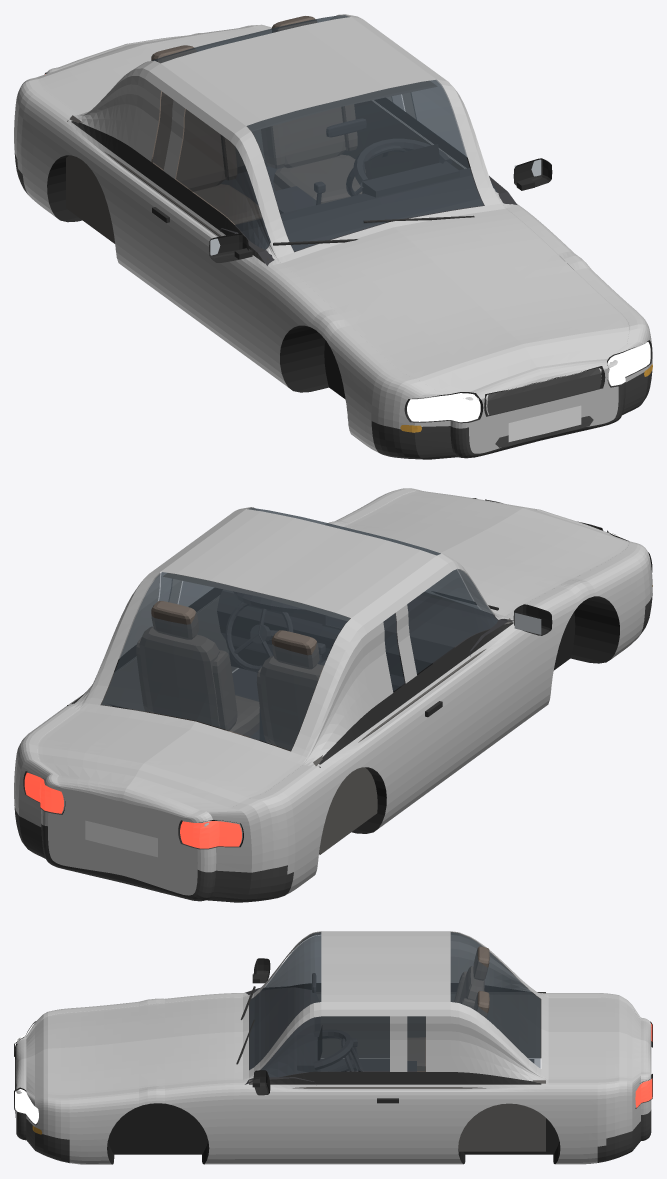
Rendered from car_samurai.fbx.
3 renders of one model, top to bottom at view 1: azimuth 30°, elevation 25°; view 2: azimuth 150°, elevation 25°; view 3: azimuth 270°, elevation 25°, orthographic. The views are drawn at different scales.
Visible parts, largest first — view 1: samurai__hood, samurai__glass, samurai__roof, samurai__seats, samurai__interior, samurai__doorR, samurai__pillars, samurai__fenderFR, samurai__quarterR, samurai__trunk, samurai__cabin, samurai__bumperF (+10 smaller); view 2: samurai__glass, samurai__trunk, samurai__hood, samurai__roof, samurai__seats, samurai__pillars, samurai__quarterR, samurai__doorR, samurai__interior, samurai__rearPanel, samurai__fenderFR, samurai__cabin (+7 smaller); view 3: samurai__hood, samurai__glass, samurai__doorL, samurai__quarterL, samurai__pillars, samurai__roof, samurai__trunk, samurai__fenderFL, samurai__cabin, samurai__interior, samurai__wells, samurai__seals (+7 smaller).
Boxes of the visible parts, x1,y1,x2,y2 form: samurai__hood: [269, 206, 640, 400]; samurai__glass: [151, 15, 497, 251]; samurai__roof: [149, 17, 447, 133]; samurai__seats: [151, 16, 365, 224]; samurai__interior: [220, 118, 517, 265]; samurai__doorR: [135, 178, 261, 363]; samurai__pillars: [77, 14, 503, 259]; samurai__fenderFR: [249, 261, 450, 452]; samurai__quarterR: [14, 80, 147, 280]; samurai__trunk: [25, 24, 517, 266]; samurai__cabin: [66, 80, 465, 260]; samurai__bumperF: [371, 370, 652, 459]; samurai__glass: [101, 508, 497, 750]; samurai__trunk: [25, 591, 513, 822]; samurai__hood: [327, 488, 640, 617]; samurai__roof: [149, 509, 447, 625]; samurai__seats: [136, 601, 323, 751]; samurai__pillars: [75, 507, 503, 761]; samurai__quarterR: [209, 709, 409, 895]; samurai__doorR: [397, 625, 523, 811]; samurai__interior: [217, 589, 513, 745]; samurai__rearPanel: [41, 776, 216, 895]; samurai__fenderFR: [511, 545, 652, 727]; samurai__cabin: [67, 573, 512, 854]; samurai__hood: [16, 993, 242, 1100]; samurai__glass: [249, 932, 540, 1077]; samurai__doorL: [254, 1084, 425, 1164]; samurai__quarterL: [426, 1076, 640, 1164]; samurai__pillars: [249, 931, 541, 1081]; samurai__roof: [321, 931, 450, 1009]; samurai__trunk: [243, 993, 651, 1084]; samurai__fenderFL: [26, 1084, 253, 1164]; samurai__cabin: [249, 992, 545, 1151]; samurai__interior: [245, 973, 534, 1084]; samurai__wells: [107, 1103, 560, 1164]; samurai__seals: [249, 983, 541, 1084].
Bounding box in the file's own units: 2.01 × 1.18 × 4.37.
